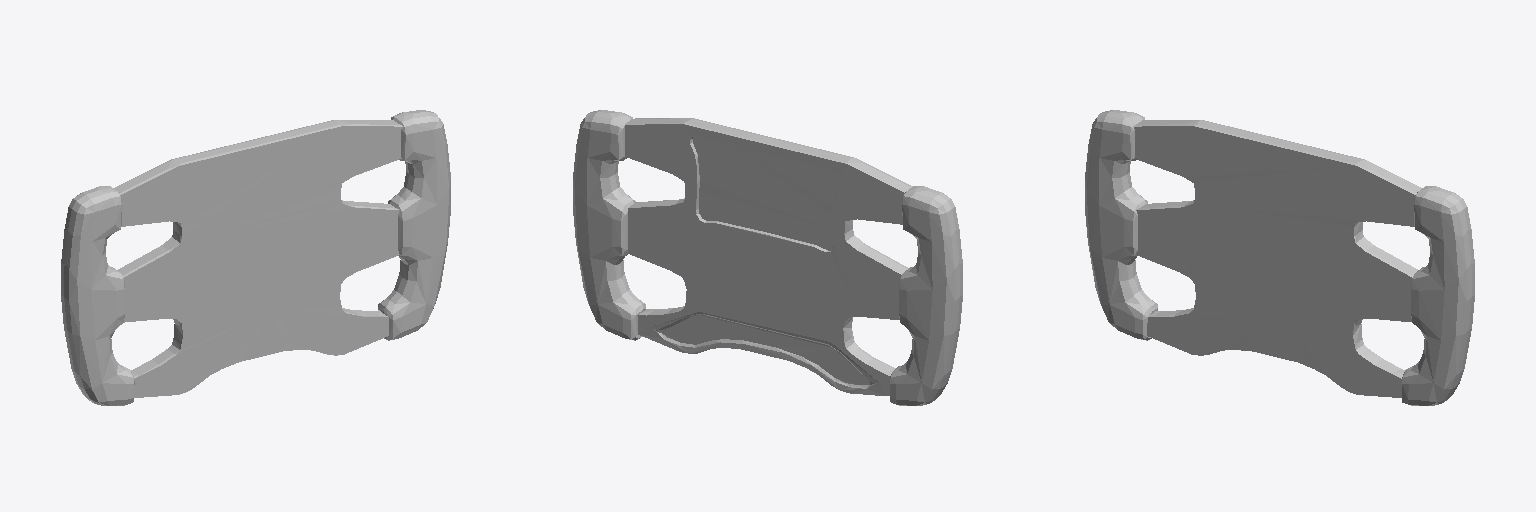
File: SteeringWheel2.obj
The picture shows the model from 3 angles: view 1: azimuth 30°, elevation 25°; view 2: azimuth 150°, elevation 25°; view 3: azimuth 330°, elevation 25°; orthographic projection.
Visible parts, largest first — view 1: group__Plane001; view 2: group__Plane001; view 3: group__Plane001.
Part boxes in pixels (x1,y1,x2,y2): group__Plane001: (61, 110, 450, 405); group__Plane001: (573, 110, 962, 405); group__Plane001: (1085, 110, 1474, 405).
Bounding box in the file's own units: 0.3111 × 0.1778 × 0.0235.